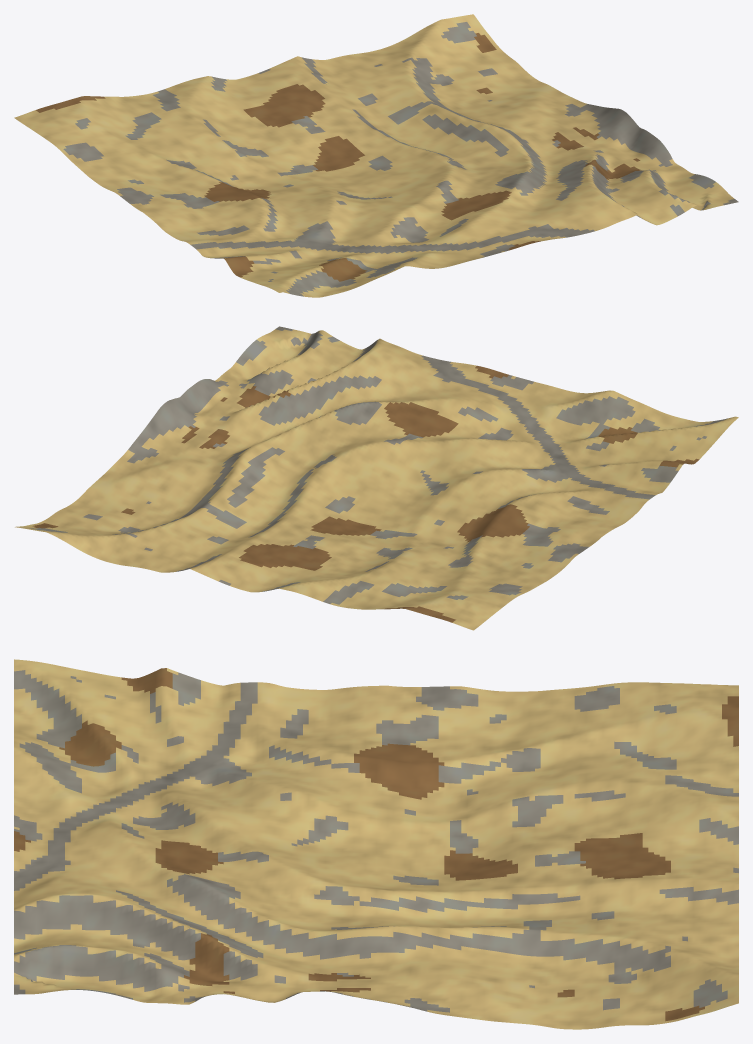
Rendered from chunk_6_5.glb.
3 renders of one model, top to bottom at view 1: azimuth 30°, elevation 25°; view 2: azimuth 150°, elevation 25°; view 3: azimuth 270°, elevation 25°, orthographic. The views are drawn at different scales.
Parts seen in each view (by area): view 1: Surface_Sand, Surface_Gravel, Surface_Dirt; view 2: Surface_Sand, Surface_Gravel, Surface_Dirt; view 3: Surface_Sand, Surface_Gravel, Surface_Dirt.
Boxes of the visible parts, <box> form: Surface_Sand: <box>14,14,734,297</box>; Surface_Gravel: <box>63,22,738,296</box>; Surface_Dirt: <box>36,33,641,281</box>; Surface_Sand: <box>15,329,738,630</box>; Surface_Gravel: <box>29,326,727,604</box>; Surface_Dirt: <box>32,365,699,622</box>; Surface_Sand: <box>14,659,738,1029</box>; Surface_Gravel: <box>14,670,738,1012</box>; Surface_Dirt: <box>14,668,738,1021</box>.
Bounding box in the file's own units: 256 × 24.89 × 256.
